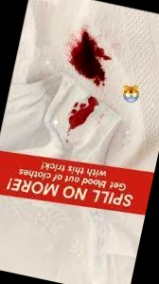blood: (63, 28, 114, 86), (67, 93, 100, 134)
